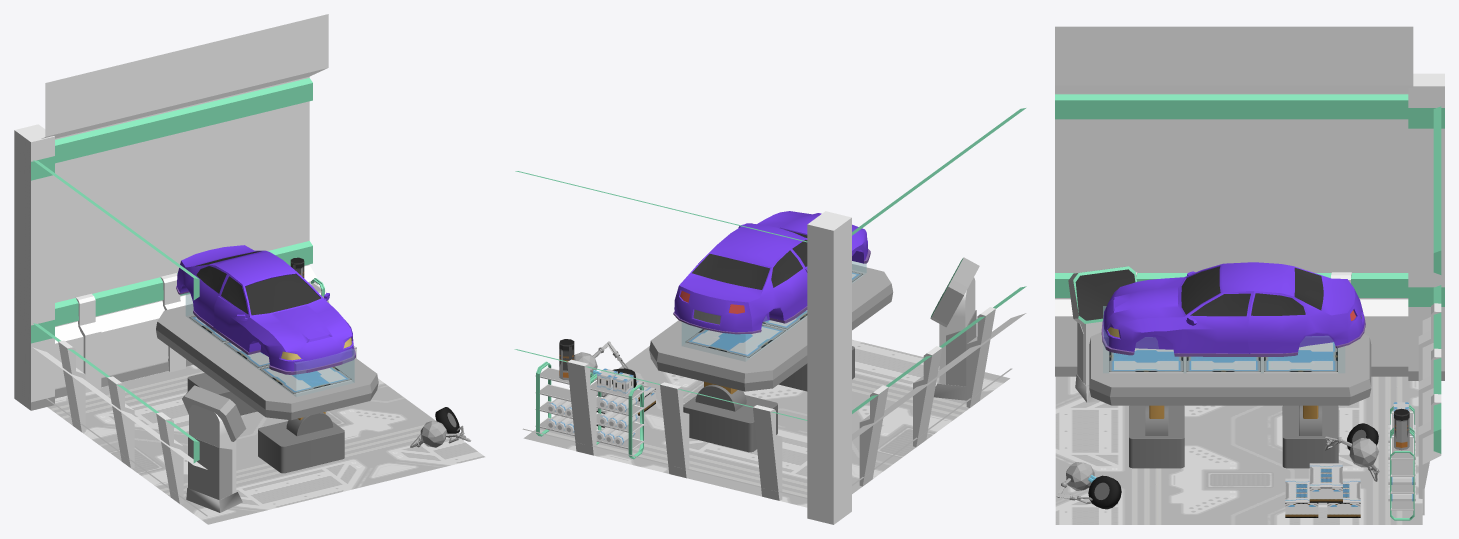
3 renders of one model, left to right at view 1: azimuth 30°, elevation 25°; view 2: azimuth 150°, elevation 25°; view 3: azimuth 270°, elevation 25°, orthographic. The views are drawn at different scales.
Visible parts, largest first — view 1: Wall_4_L.002, Floor.005, Car.005, wall_M.001, bottom set.003, Wall_4_L.003, Props_ComputerSmall.003, 03.003, forGLSL_2.001, o5, Ball_left.005; view 2: Floor.005, wall_M.001, Car.005, bottom set.003, Wall_4_L.002, Wall_4_L.003, 03.003, Props_ComputerSmall.003, forGLSL_2.001, o5.002, Props_Shelf.003, Props_Shelf.004; view 3: Wall_4_L.003, Floor.005, Car.005, bottom set.003, wall_M.001, 03.003, Wall_4_L.002, forGLSL_2.001, Props_ComputerSmall.003, o5.002, o5, Props_Shelf.004 (+9 smaller).
Boxes of the visible parts, bbox=[...] form: Wall_4_L.002: bbox=[41, 14, 328, 398]; Floor.005: bbox=[47, 365, 484, 524]; Car.005: bbox=[176, 245, 355, 374]; wall_M.001: bbox=[14, 124, 54, 410]; bottom set.003: bbox=[156, 304, 378, 420]; Wall_4_L.003: bbox=[33, 160, 207, 516]; Props_ComputerSmall.003: bbox=[182, 385, 246, 512]; 03.003: bbox=[187, 373, 344, 473]; forGLSL_2.001: bbox=[186, 292, 354, 396]; o5: bbox=[259, 367, 351, 394]; Ball_left.005: bbox=[420, 421, 447, 447]; Floor.005: bbox=[523, 339, 1009, 507]; wall_M.001: bbox=[807, 211, 851, 524]; Car.005: bbox=[673, 211, 870, 334]; bottom set.003: bbox=[649, 264, 893, 391]; Wall_4_L.002: bbox=[514, 171, 807, 500]; Wall_4_L.003: bbox=[852, 108, 1026, 486]; 03.003: bbox=[683, 346, 854, 452]; Props_ComputerSmall.003: bbox=[930, 257, 979, 400]; forGLSL_2.001: bbox=[682, 261, 866, 361]; o5.002: bbox=[685, 324, 786, 358]; Props_Shelf.003: bbox=[590, 373, 644, 459]; Props_Shelf.004: bbox=[535, 361, 593, 436]; Wall_4_L.003: bbox=[1055, 26, 1413, 376]; Floor.005: bbox=[1055, 376, 1422, 524]; Car.005: bbox=[1101, 262, 1365, 356]; bottom set.003: bbox=[1089, 332, 1371, 405]; wall_M.001: bbox=[1408, 73, 1444, 380]; 03.003: bbox=[1129, 405, 1338, 468]; Wall_4_L.002: bbox=[1418, 106, 1441, 515]; forGLSL_2.001: bbox=[1103, 306, 1344, 372]; Props_ComputerSmall.003: bbox=[1068, 266, 1136, 402]; o5.002: bbox=[1264, 342, 1337, 373]; o5: bbox=[1109, 348, 1183, 373]; Props_Shelf.004: bbox=[1390, 430, 1414, 520].
Bounding box in the file's own units: 0.6653 × 0.711 × 0.698.
Materials: 34 (6 with a texture image).
